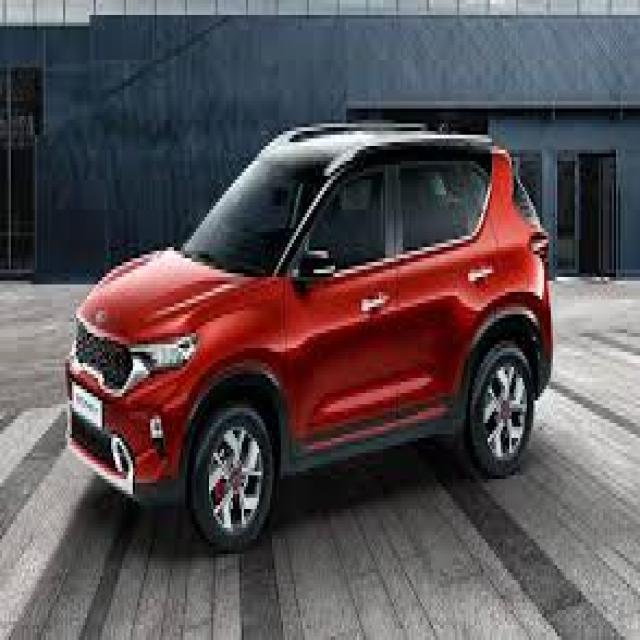SUV: (65, 113, 558, 540)
